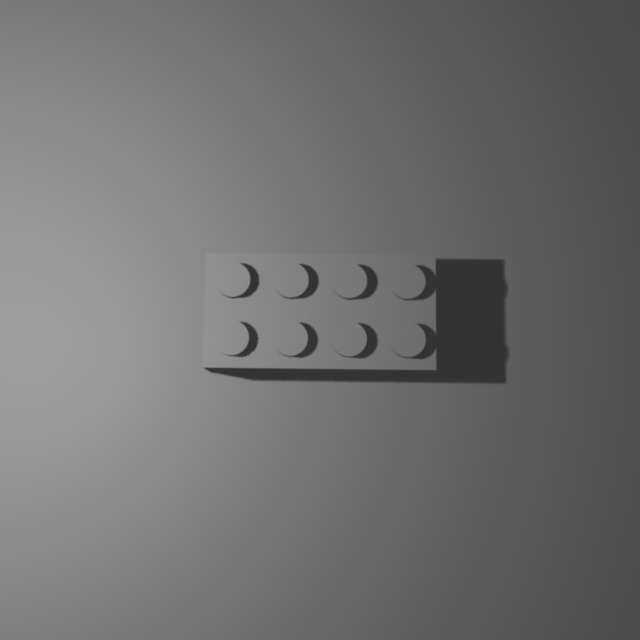lego_2x4: (201, 250, 438, 375)
